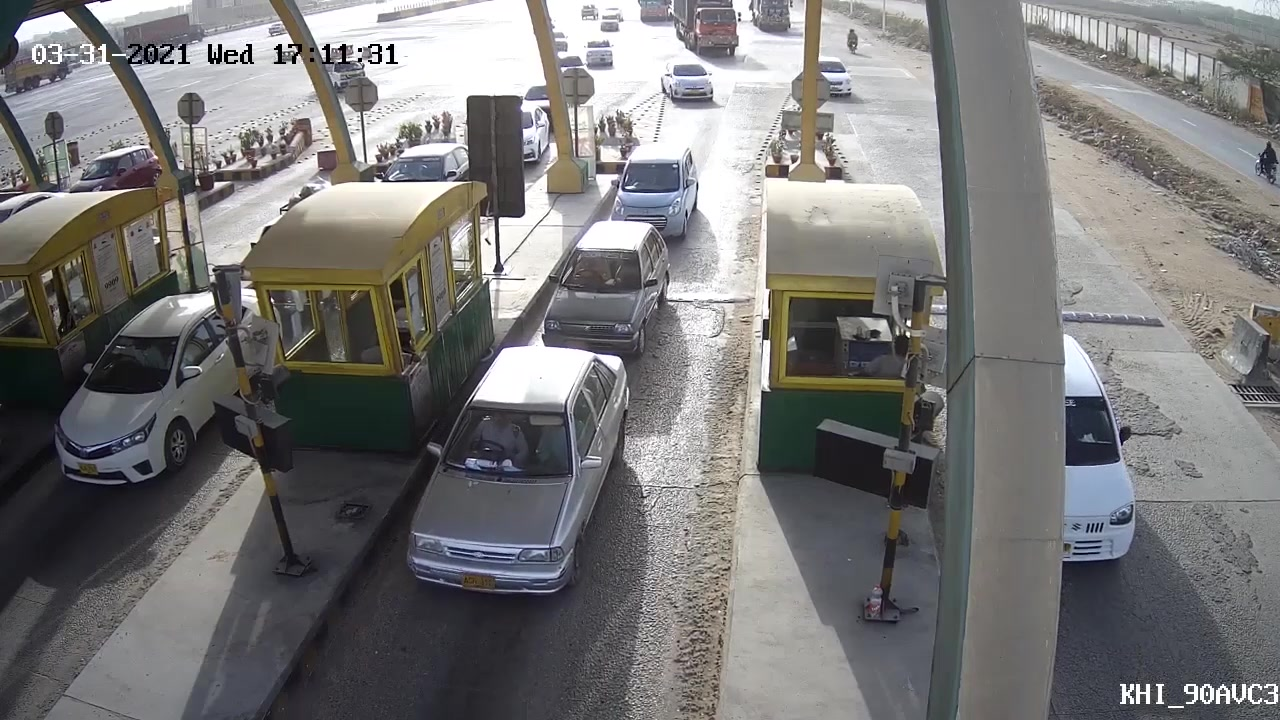F1: (398, 343, 630, 612), (528, 212, 676, 354), (609, 140, 701, 232)
